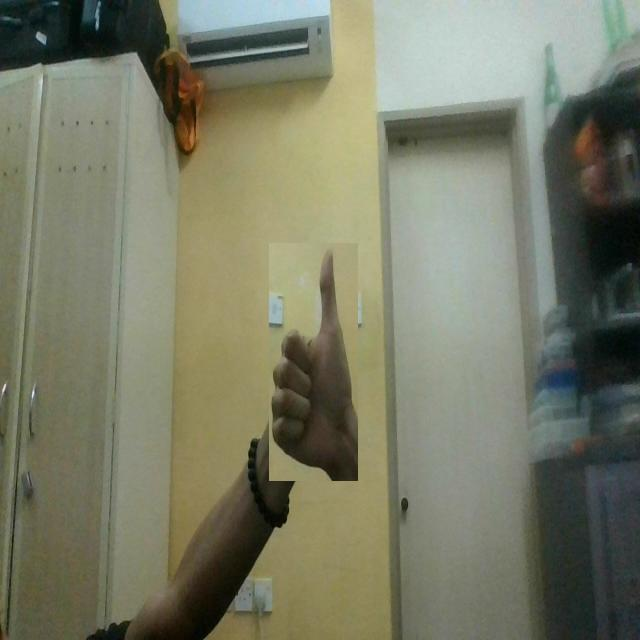thumbs up: (269, 244, 358, 482)
